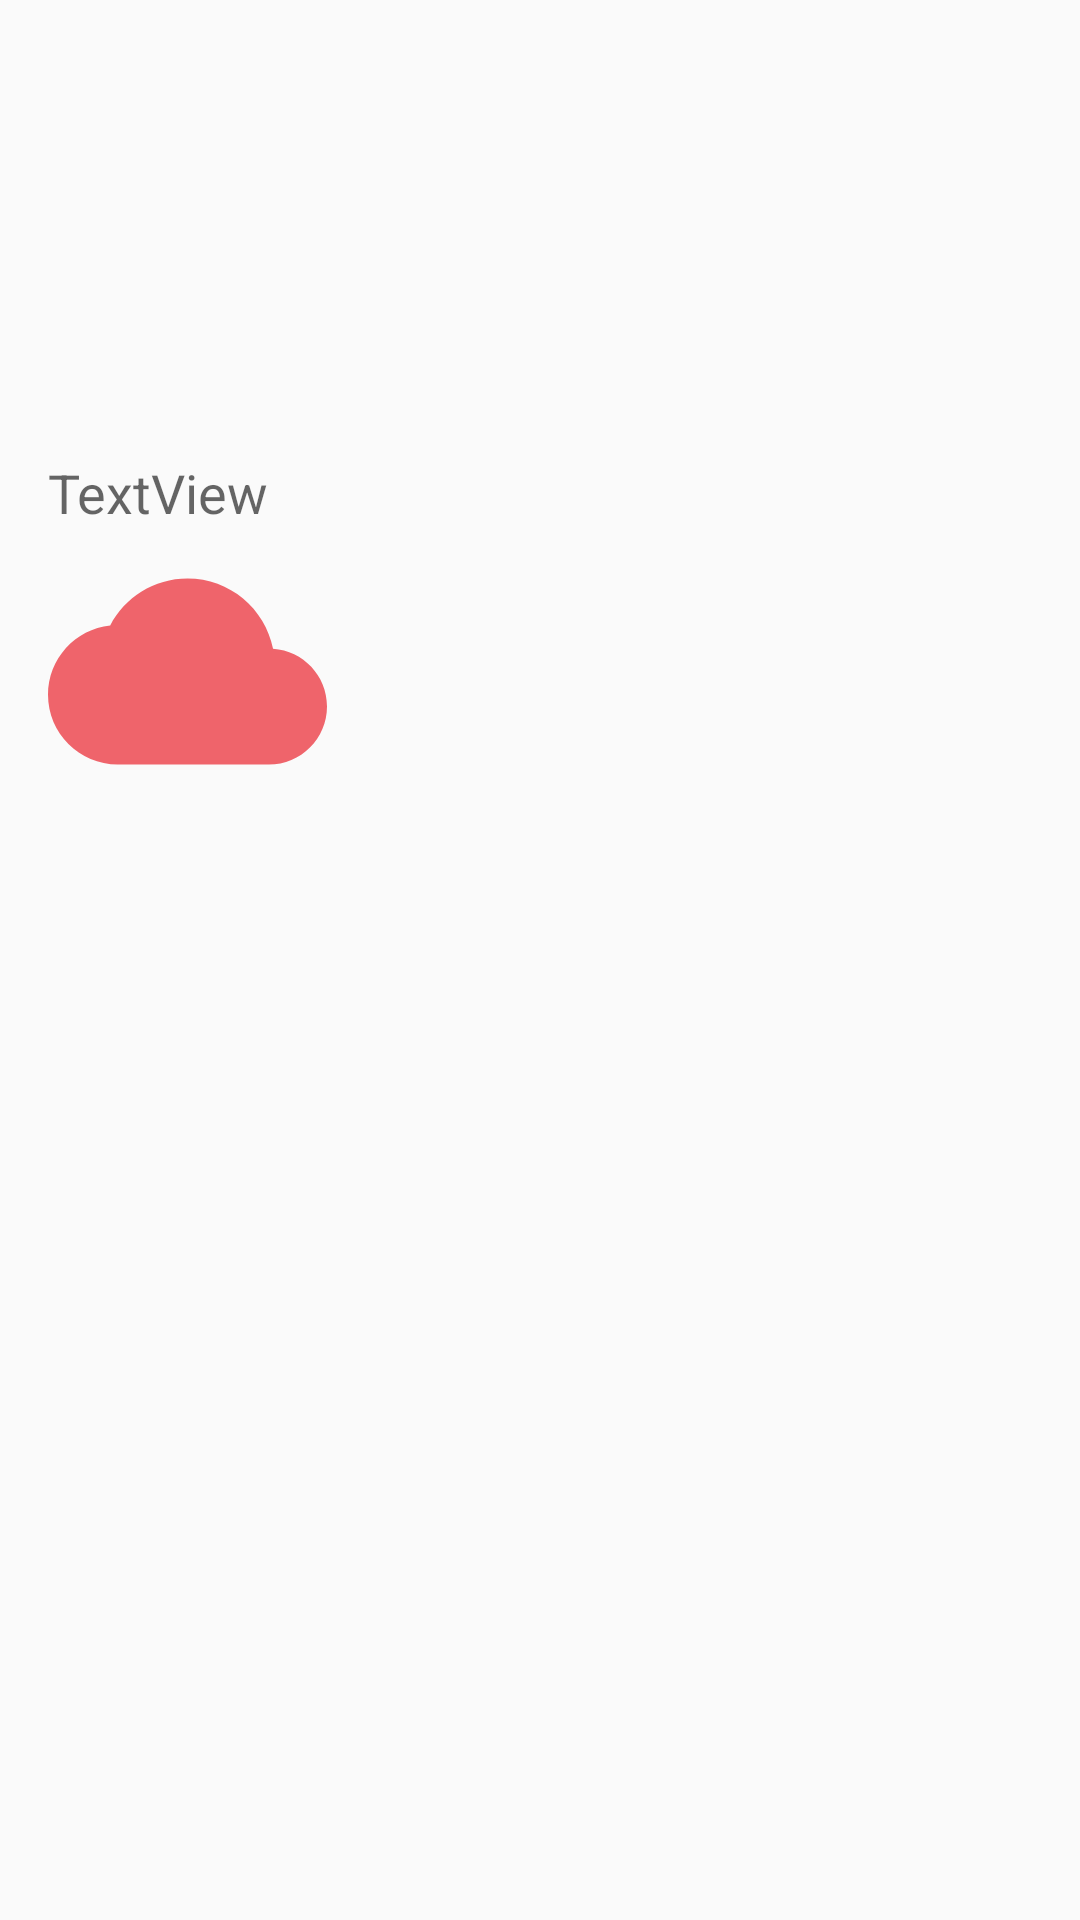

Screen size 1080 x 1920. Icon name, then its center in pixels as point (x, y):
cloudy: point (187, 671)
